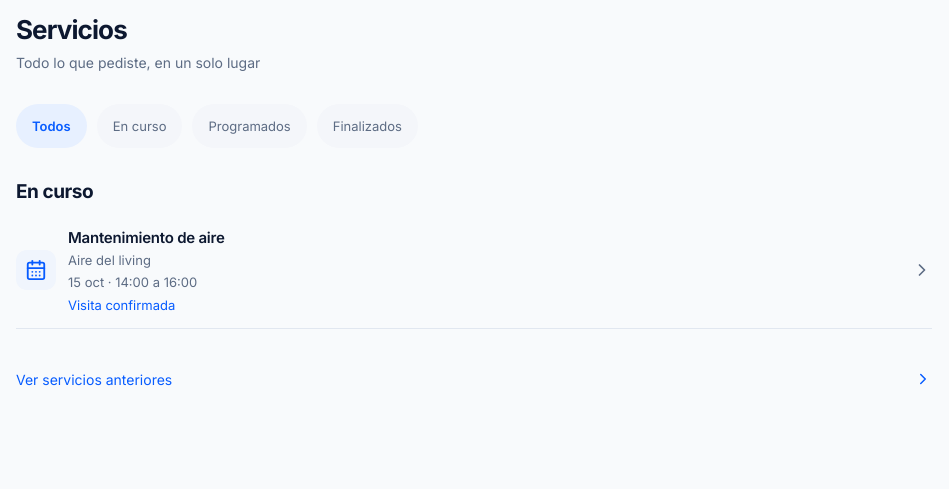
it: approved customer Services screen › keeps loaded cases and exposes an error when an older page fails
The width and height of the screenshot is (949, 489).
Click the button "Ver servicios anteriores".
click(94, 379)  # box [16, 357, 932, 401]
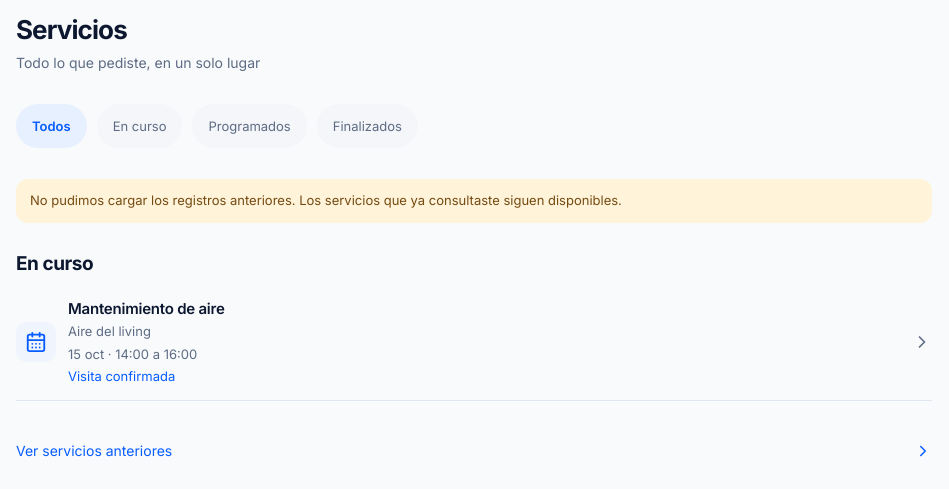
Expected: the text "Mantenimiento de aire" is shown, [68, 299, 225, 318]
Now the message shows "No pudimos", box [30, 192, 622, 208]
